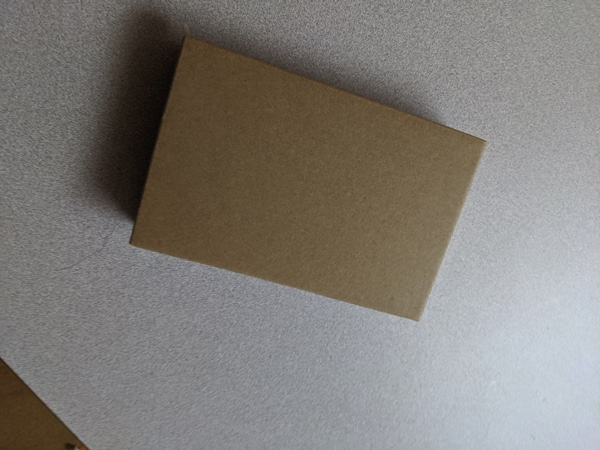cardboard: (118, 20, 489, 348)
